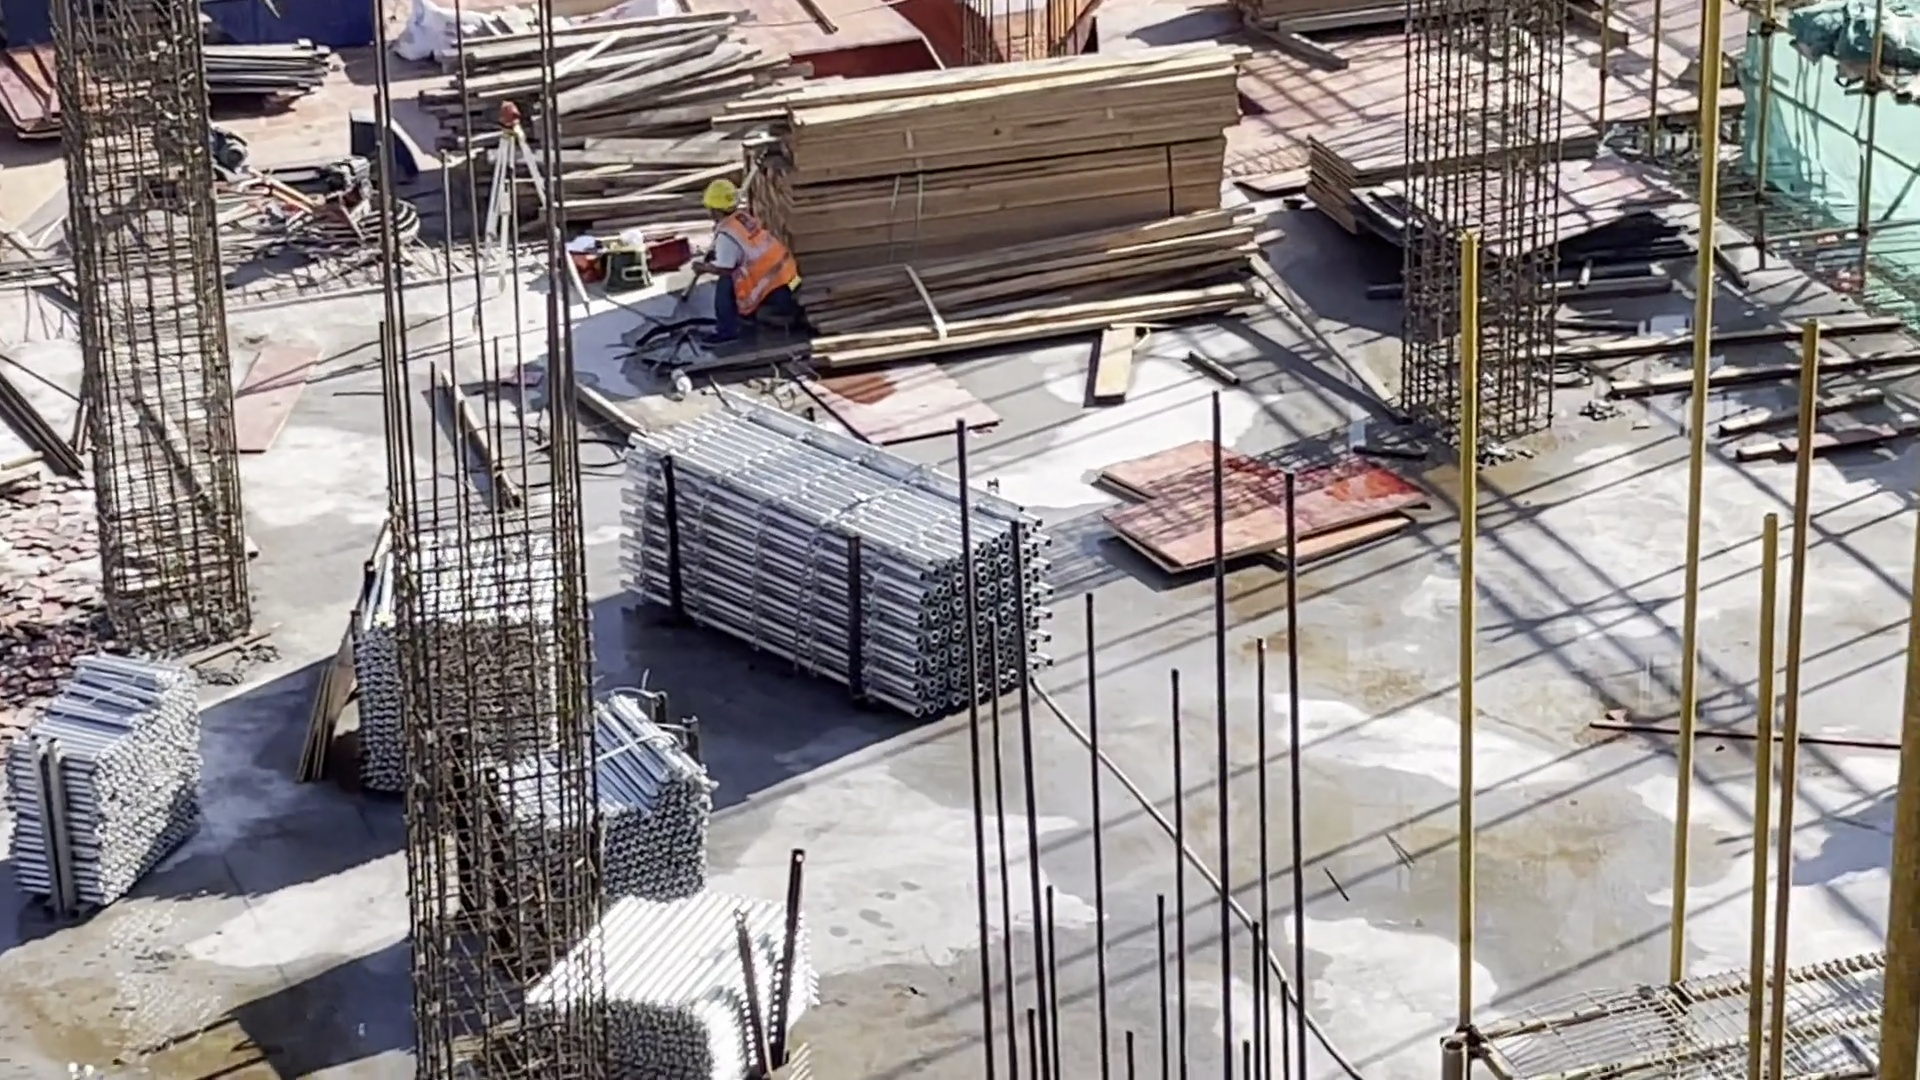board: (1298, 102, 1680, 257)
helmet: (699, 180, 735, 212)
hopper: (215, 1, 379, 44)
person: (693, 182, 803, 343)
scaffold: (352, 512, 818, 1080), (621, 386, 1059, 715), (9, 645, 199, 913)
vest: (721, 216, 795, 317)
wood: (709, 38, 1262, 373), (432, 24, 758, 211)
